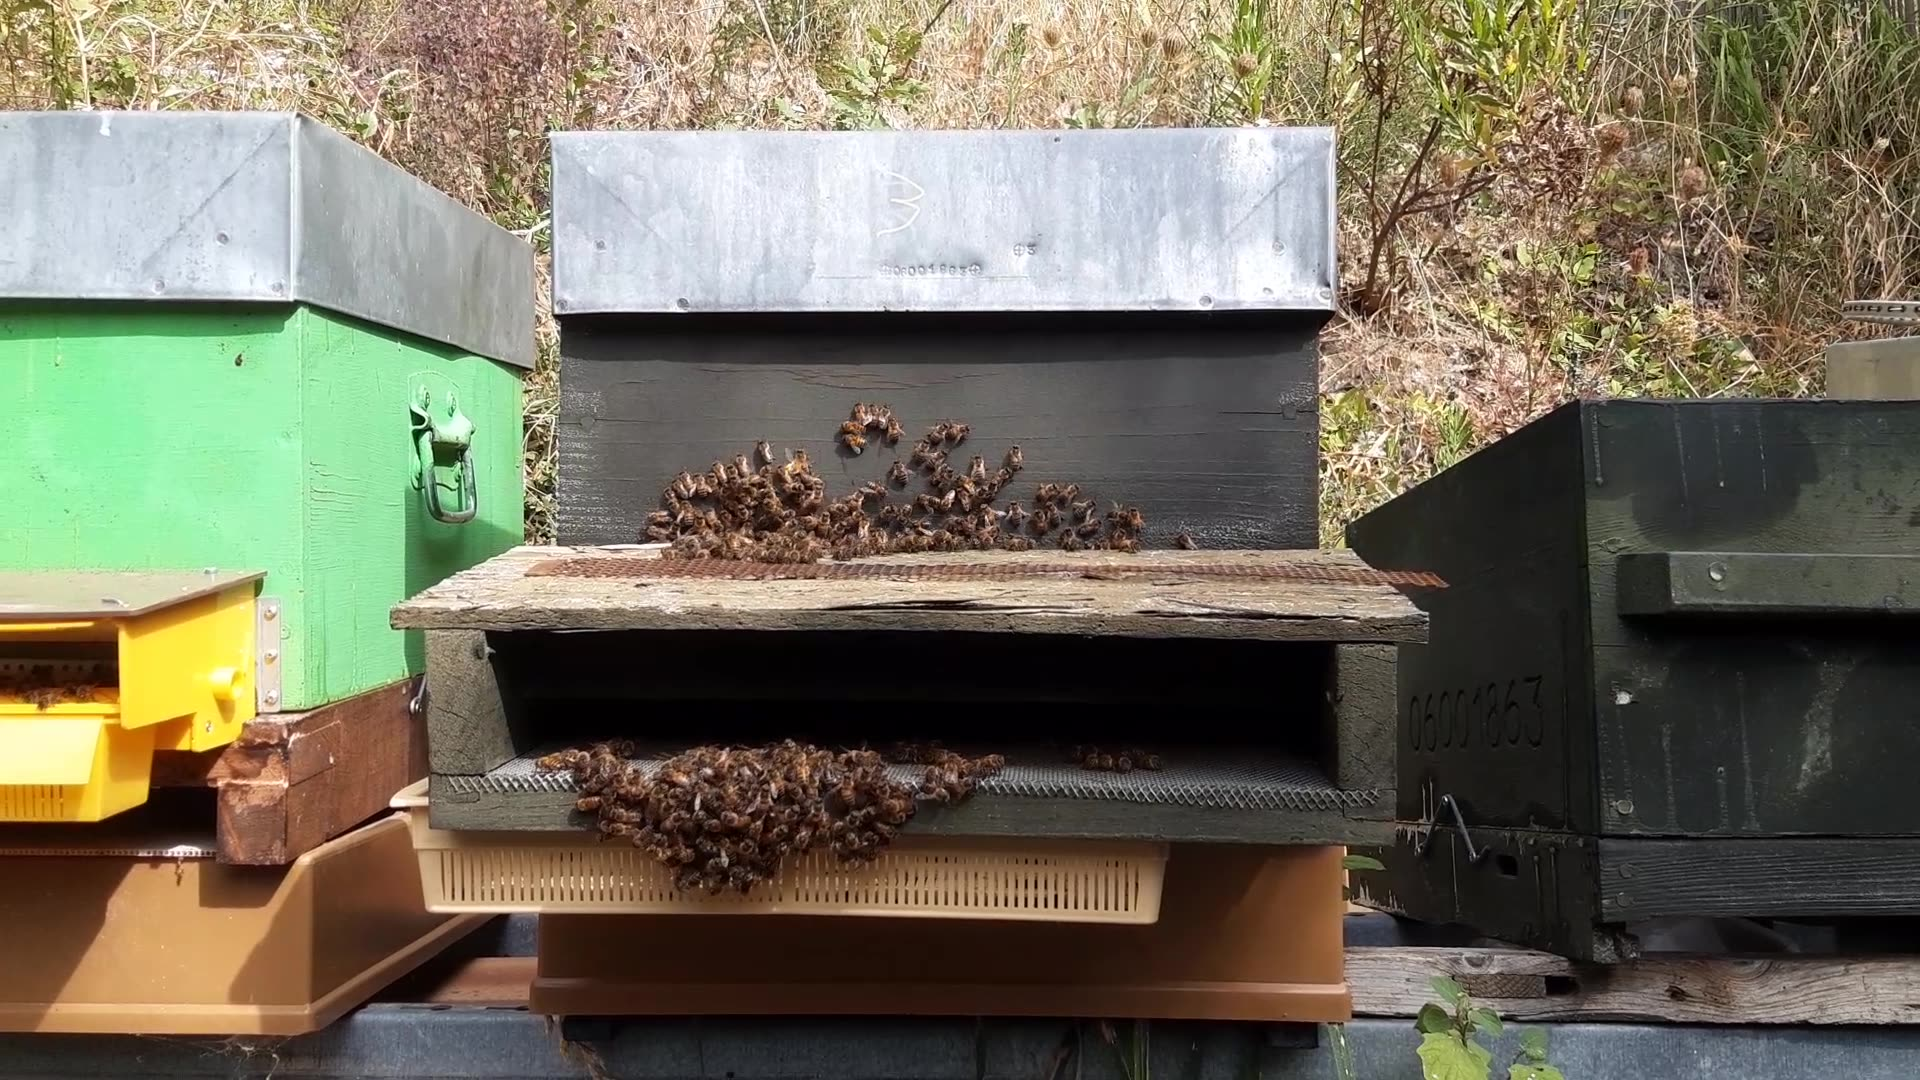bee: (582, 733, 690, 785), (916, 749, 1019, 802), (671, 823, 742, 898), (537, 744, 620, 804), (712, 727, 804, 775), (1040, 498, 1127, 549), (640, 496, 715, 549), (919, 489, 988, 545), (1338, 268, 1394, 334), (852, 411, 918, 462), (940, 471, 1007, 520), (923, 431, 992, 475), (753, 501, 811, 553), (738, 463, 798, 513), (851, 492, 916, 535), (1029, 487, 1083, 527)
